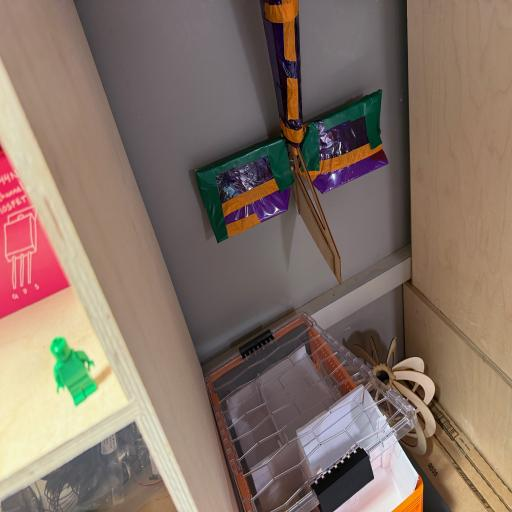Lego-Dude: (50, 337, 97, 405)
